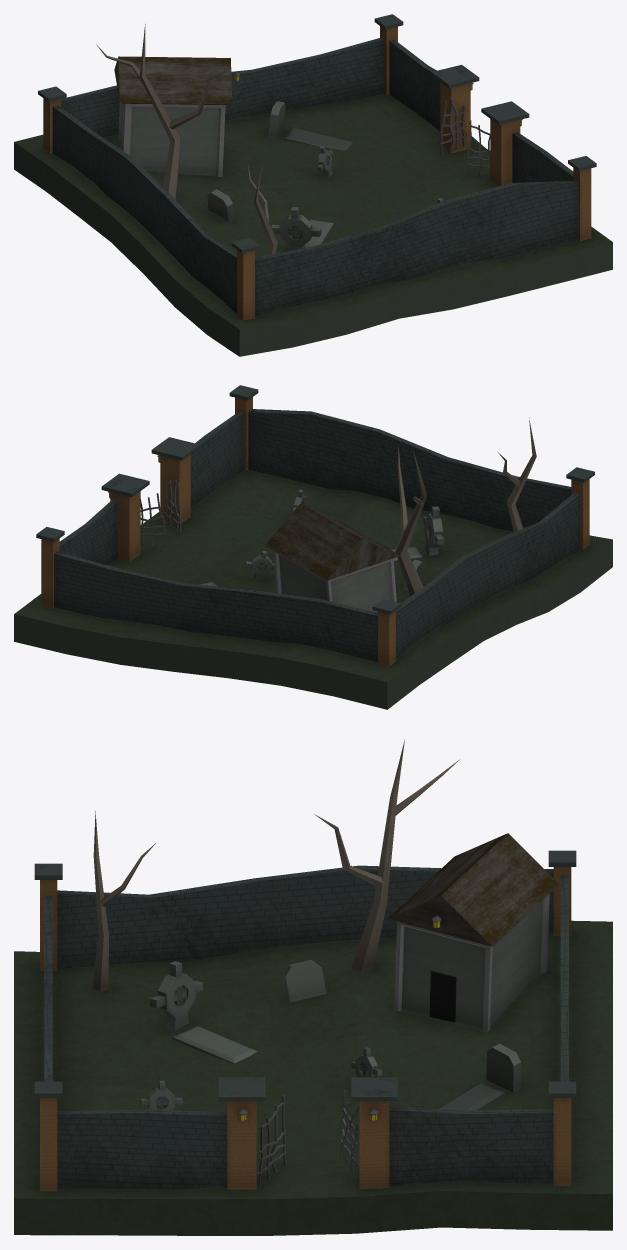
The model's file is Cementary.gltf.
3 renders of one model, top to bottom at view 1: azimuth 30°, elevation 25°; view 2: azimuth 150°, elevation 25°; view 3: azimuth 270°, elevation 25°, orthographic. The views are drawn at different scales.
Visible parts, largest first — view 1: node-0; view 2: node-0; view 3: node-0.
Part boxes in pixels (x1=…): node-0: x1=14, y1=14, x2=612, y2=356; node-0: x1=14, y1=385, x2=612, y2=709; node-0: x1=14, y1=739, x2=612, y2=1235.
Size of the model in its own units: 22.86 by 12.82 by 23.91.
Materials: 1 (1 with a texture image).
